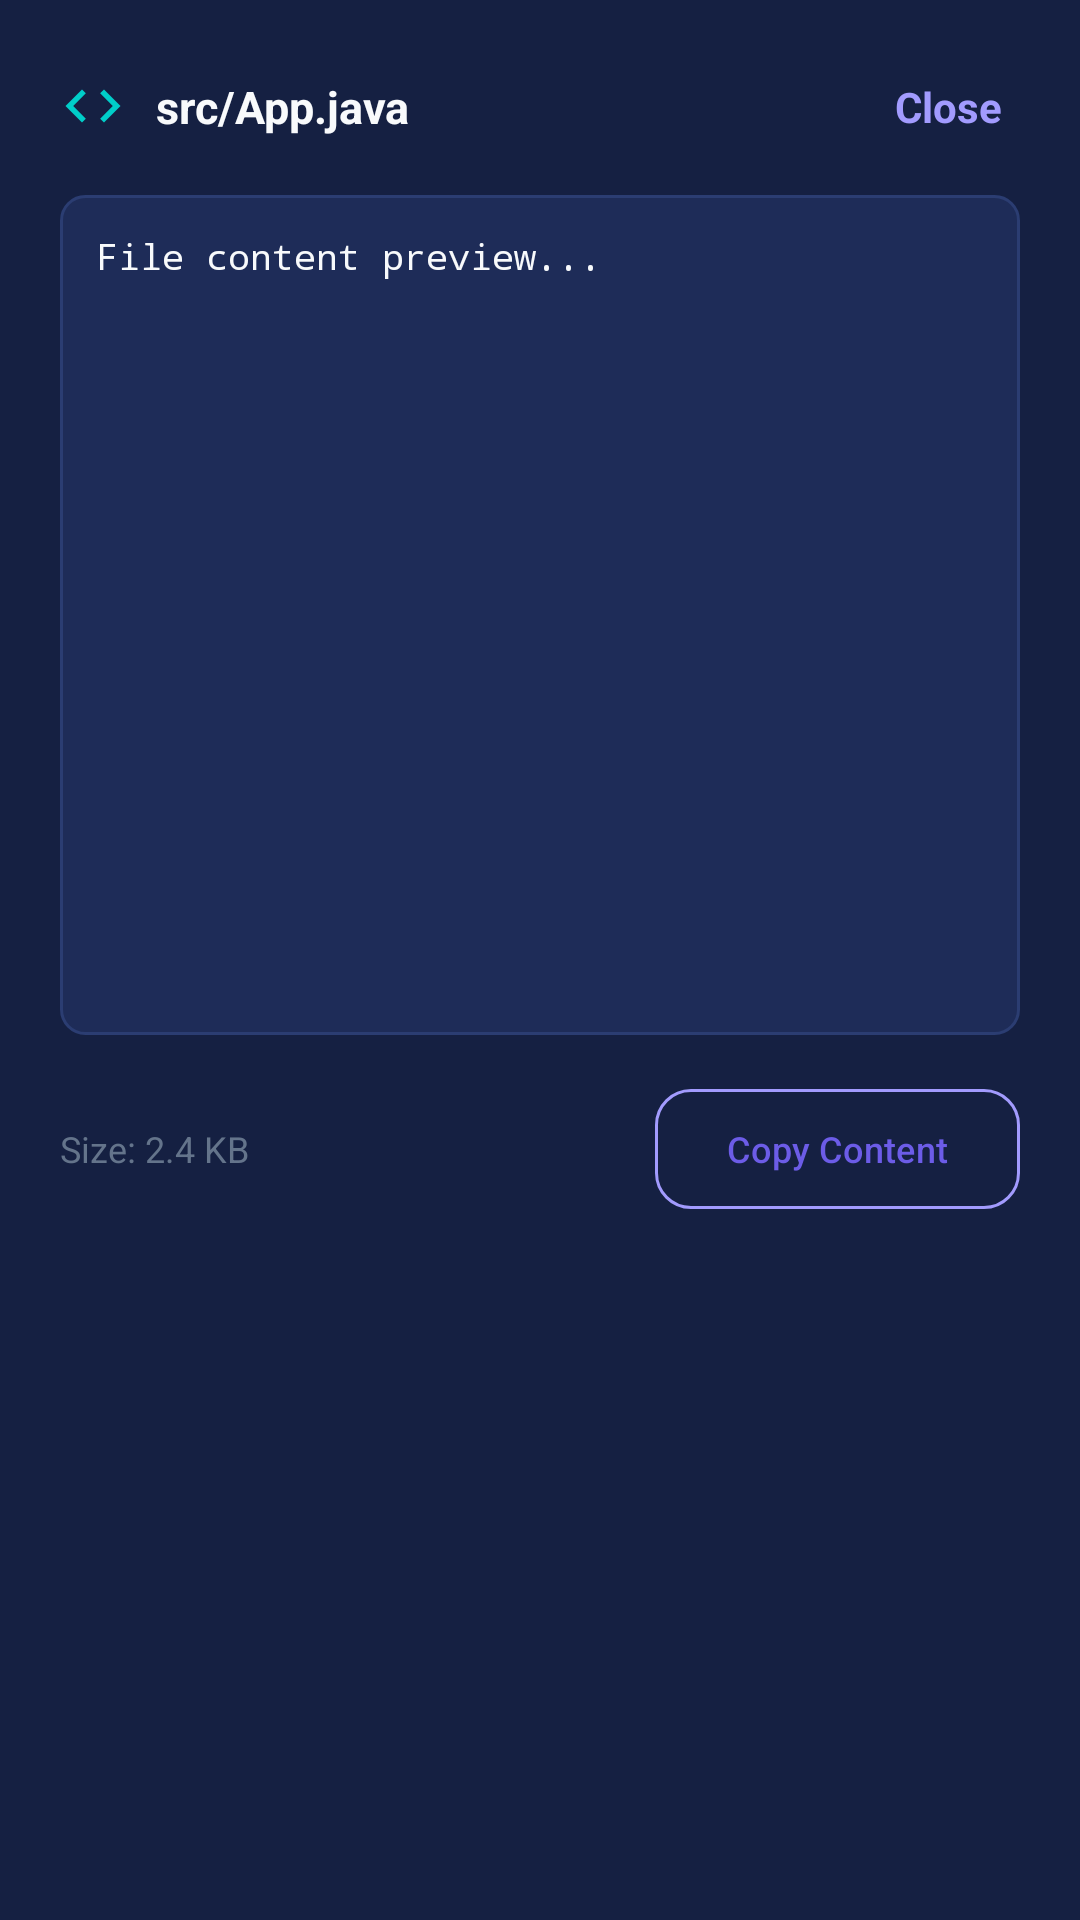

Where icons sit on this 1080*1920 app screen, as (x1, y1, x2, y2):
Code: (66, 90, 120, 122)
